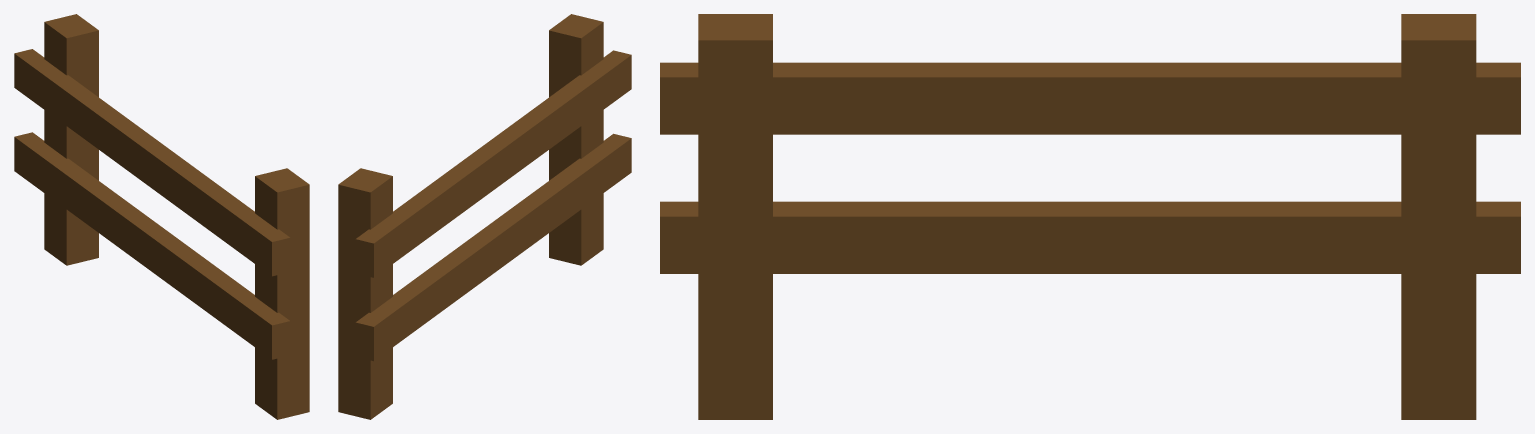
Rendered from Fence 1.fbx.
3 renders of one model, left to right at view 1: azimuth 30°, elevation 25°; view 2: azimuth 150°, elevation 25°; view 3: azimuth 270°, elevation 25°, orthographic. The views are drawn at different scales.
Visible parts, largest first — view 1: Fence_1; view 2: Fence_1; view 3: Fence_1.
Boxes of the visible parts, x1=… form: Fence_1: x1=14, y1=14, x2=309, y2=419; Fence_1: x1=338, y1=14, x2=631, y2=419; Fence_1: x1=660, y1=14, x2=1520, y2=419.
Size of the model in its own units: 33.03 by 146 by 301.
Materials: 1 (1 with a texture image).
